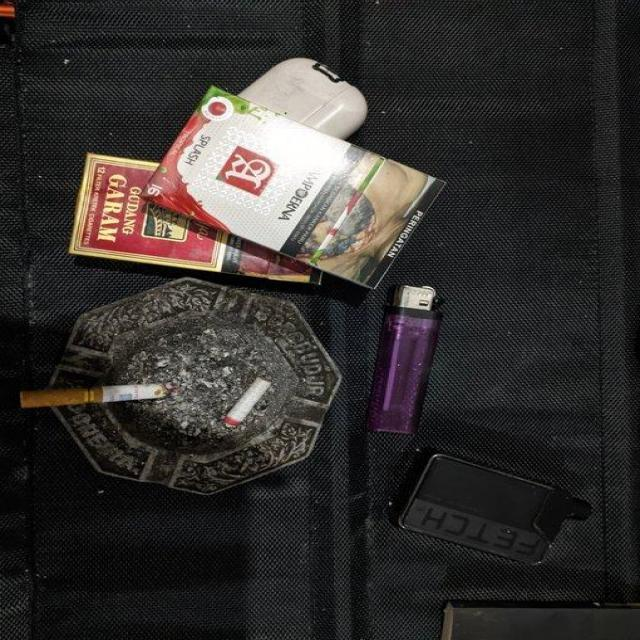rokok: (15, 380, 176, 416), (217, 370, 286, 434)
